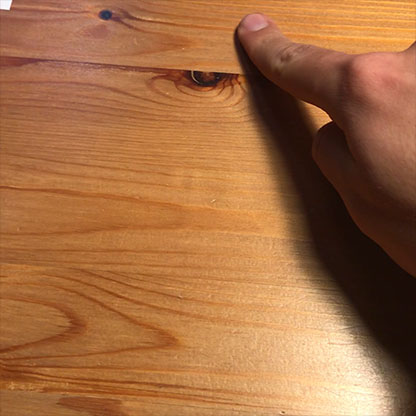fingertip: (231, 5, 281, 44)
